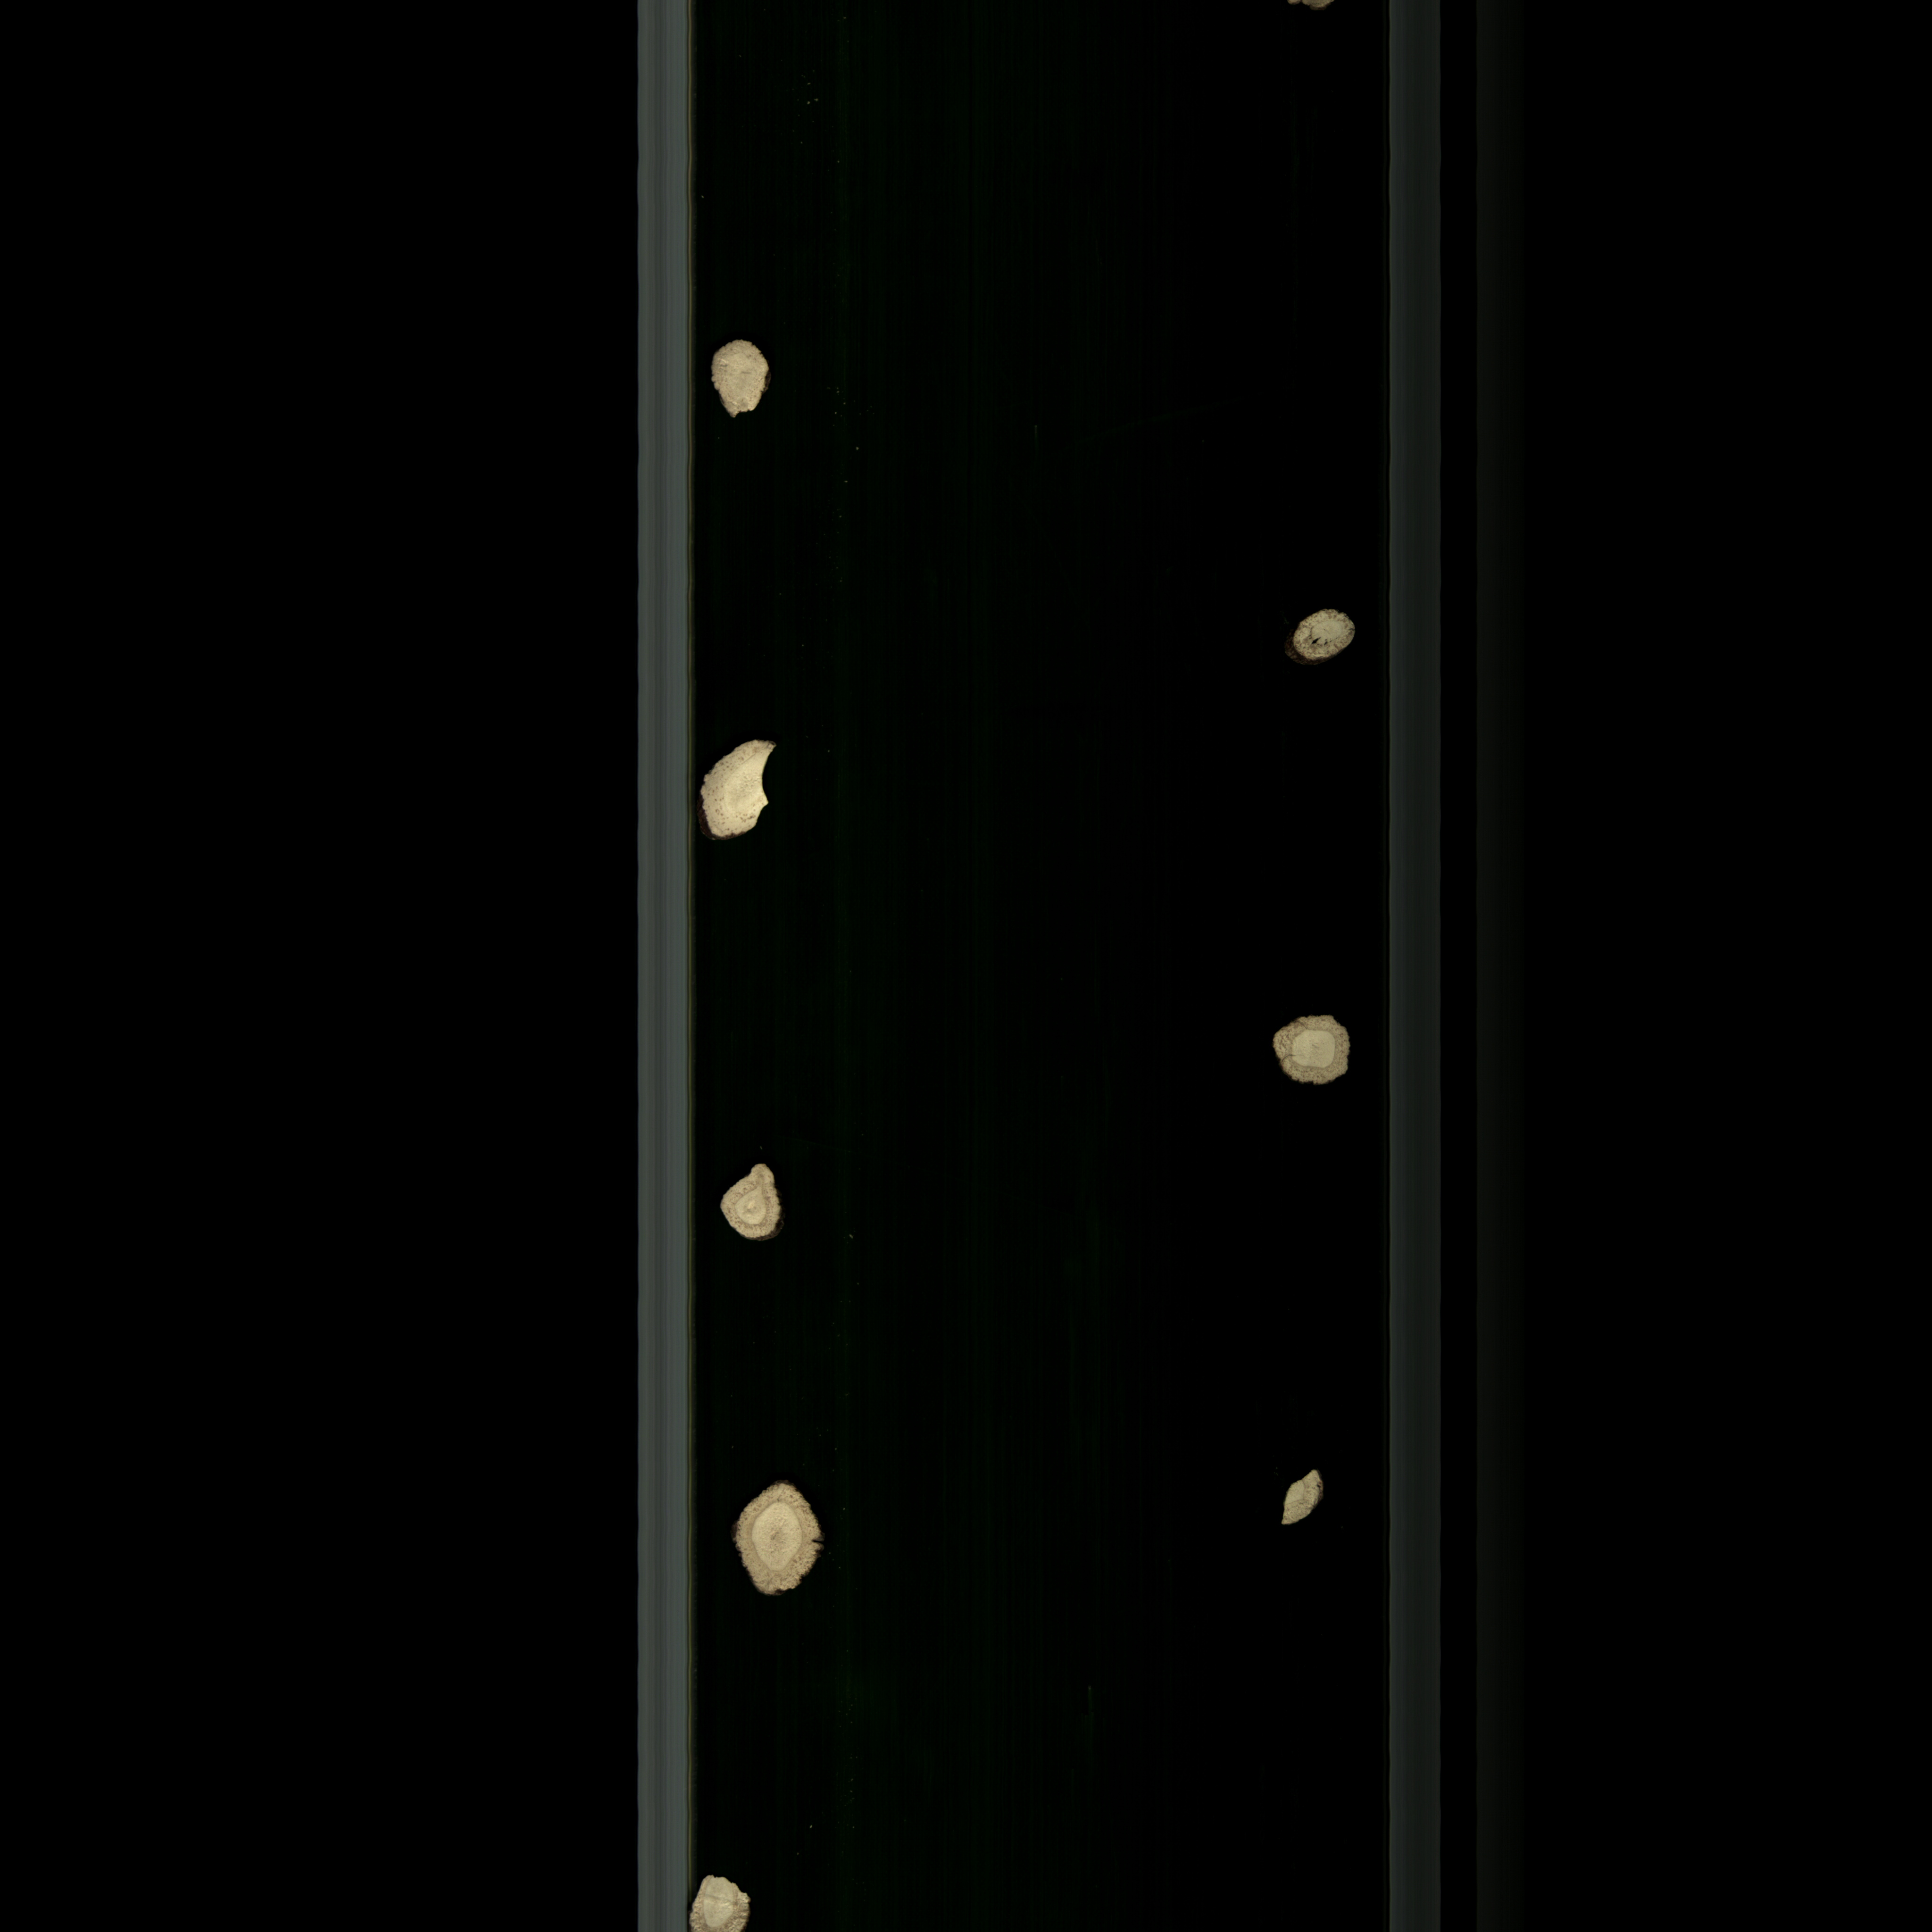debris: (695, 729, 793, 847), (674, 1861, 764, 1932)
distortion: (713, 1465, 832, 1614), (715, 1150, 801, 1260), (699, 331, 786, 435)
dreg: (1276, 1453, 1336, 1543)
moldy: (1261, 1005, 1368, 1095), (1279, 596, 1368, 686)
